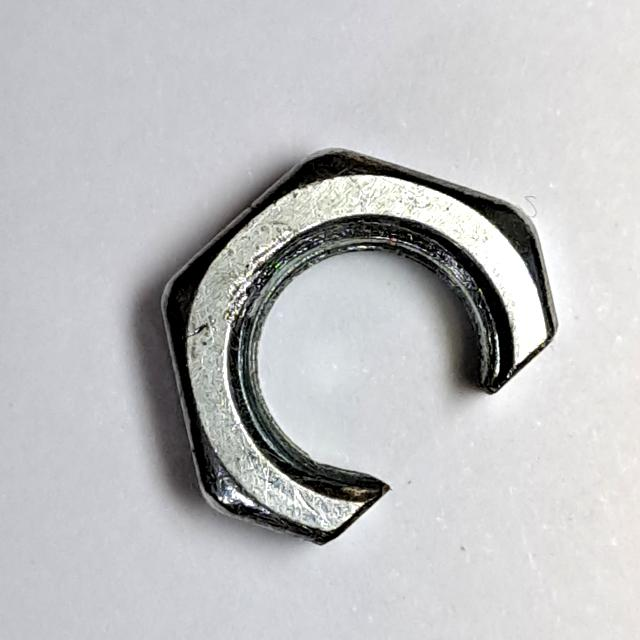Fracture: (145, 132, 565, 556)
